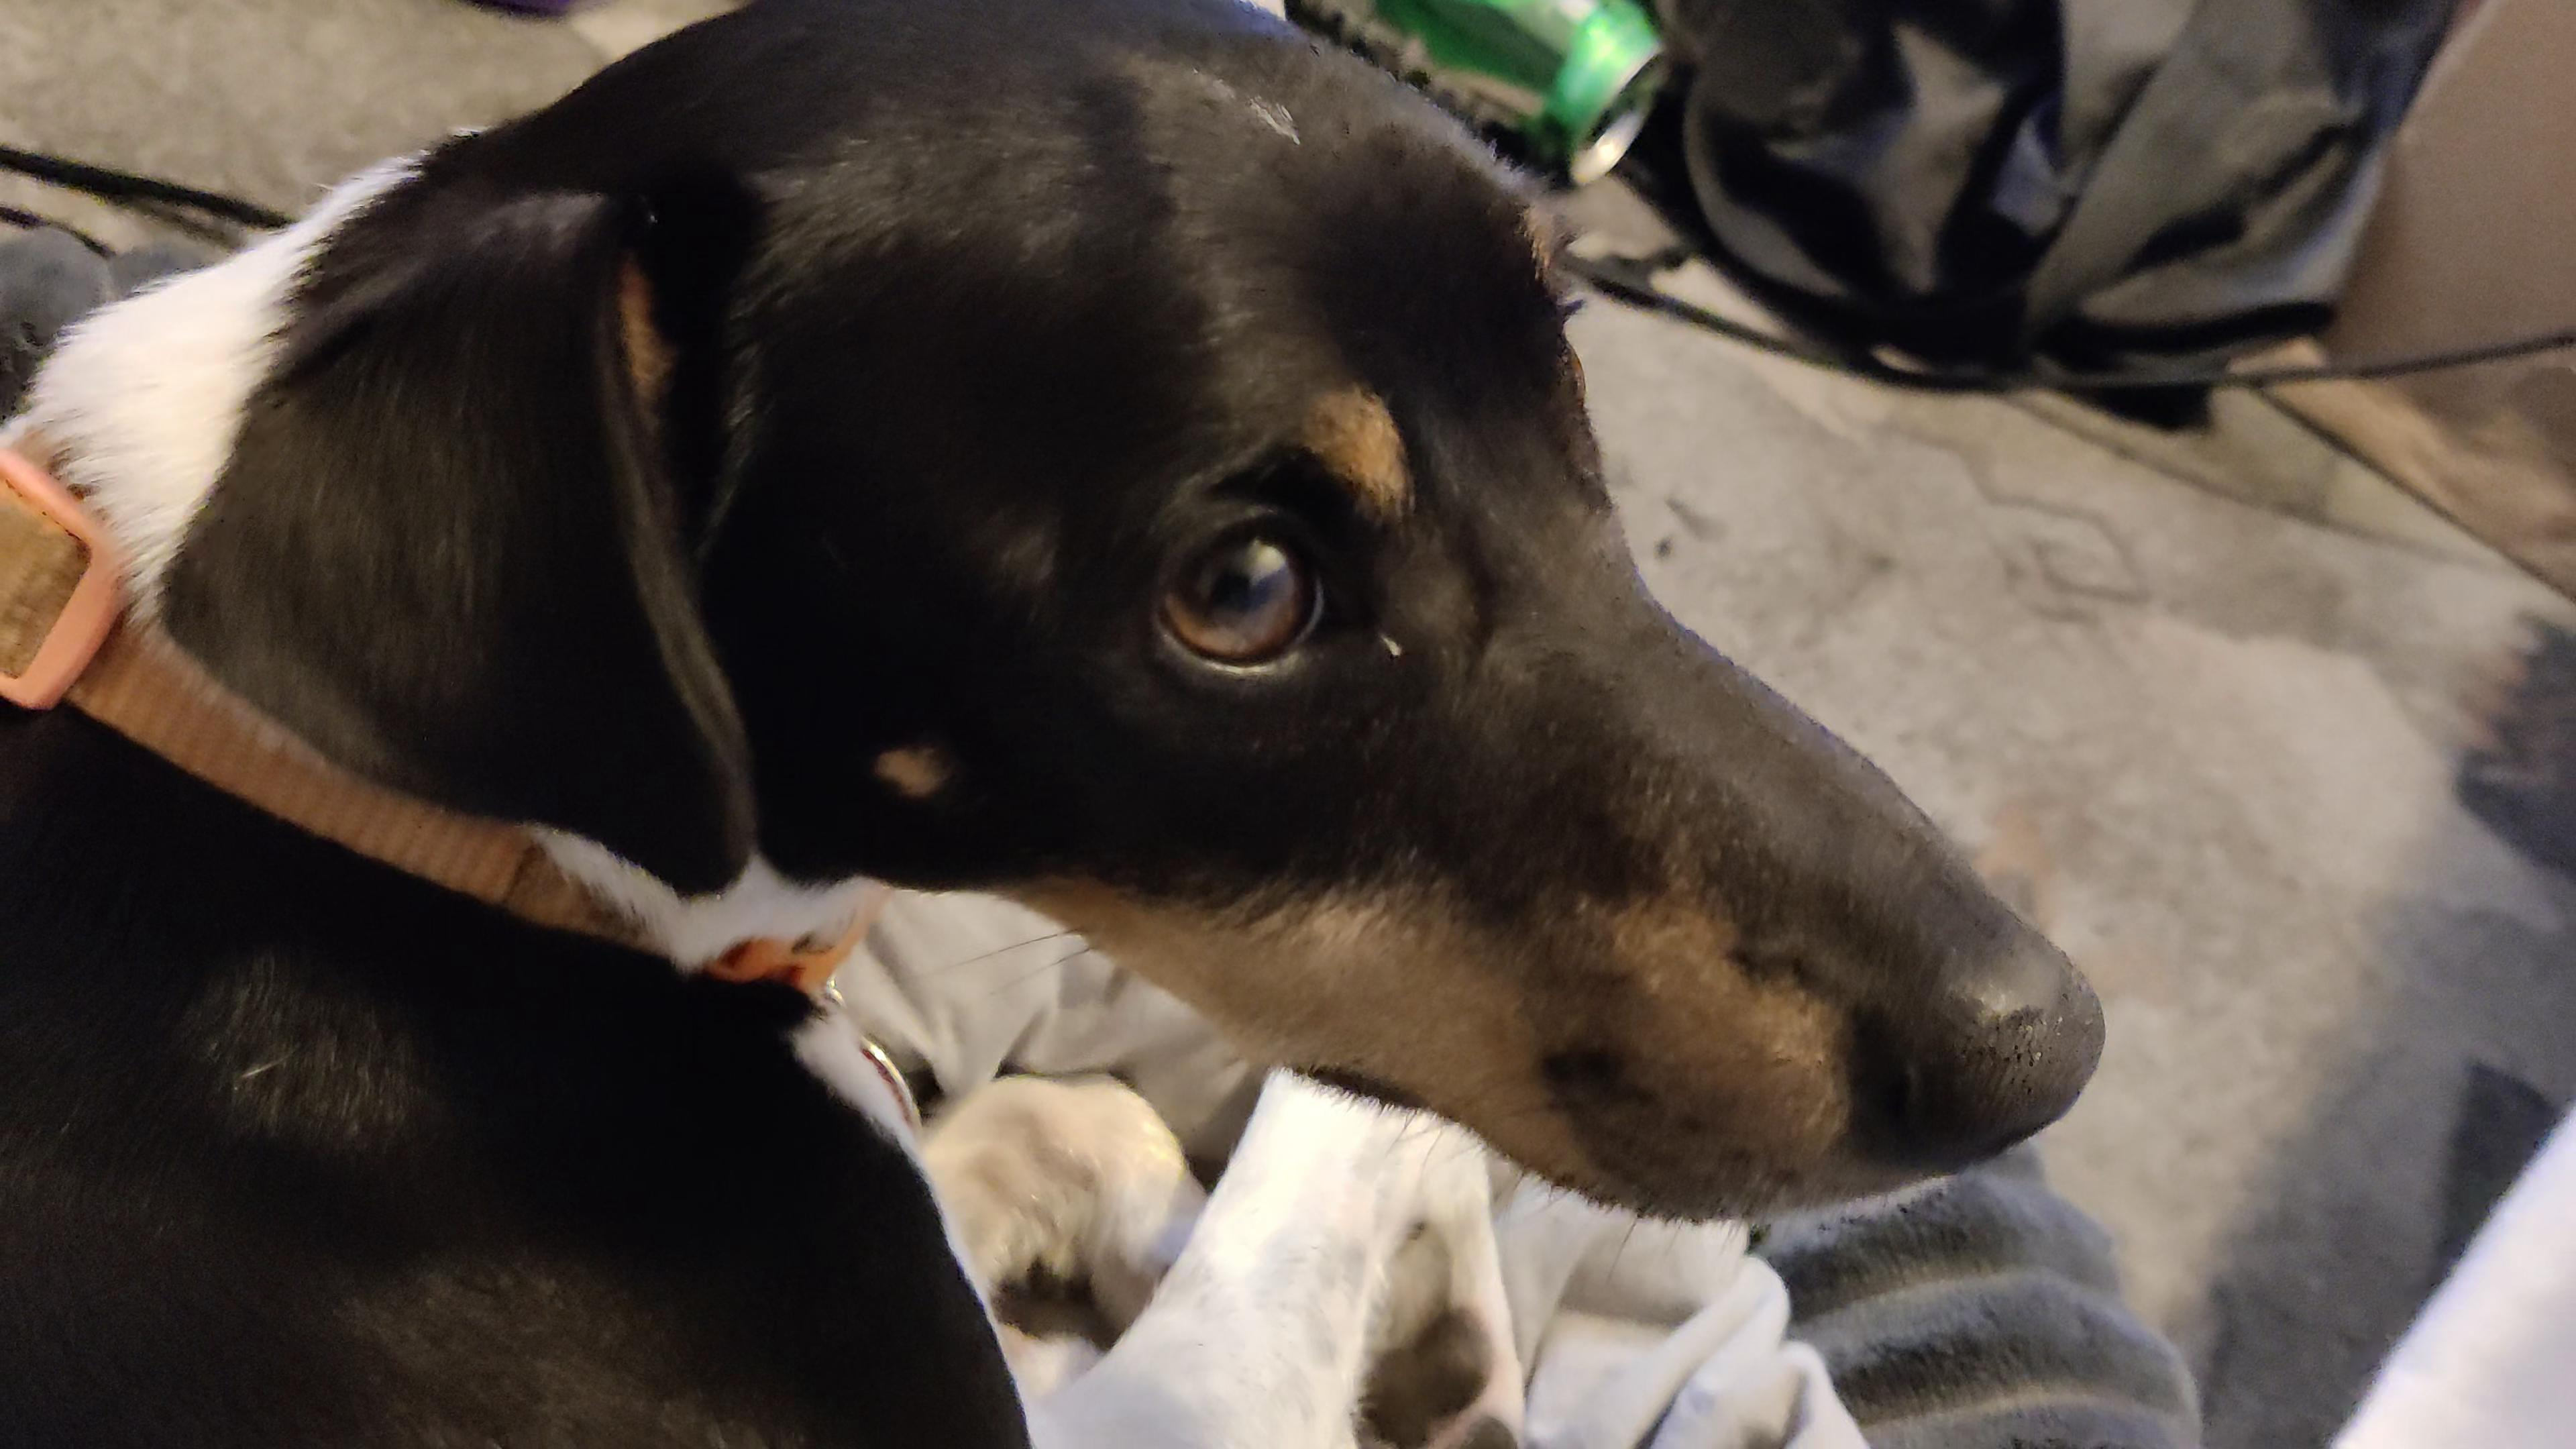Dog: (0, 0, 2137, 1449)
